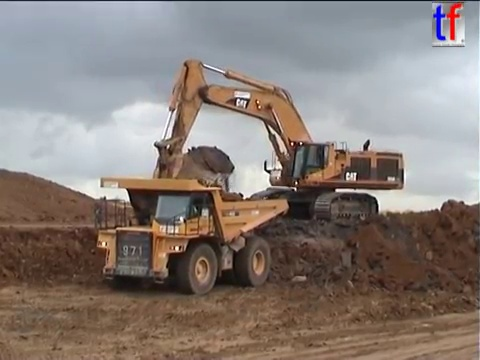excavator: (148, 57, 407, 229)
truck: (92, 175, 291, 297), (263, 186, 330, 220)
